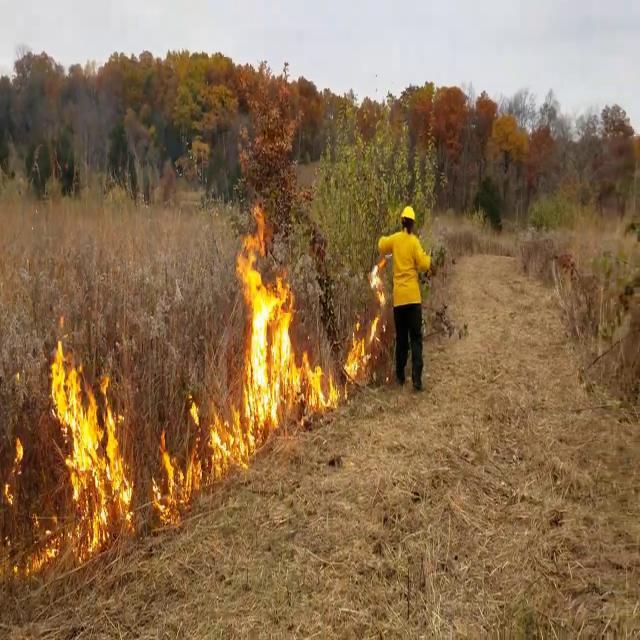Fire: (232, 208, 334, 430), (46, 324, 132, 556), (150, 386, 247, 519), (345, 285, 385, 383), (208, 398, 250, 474)
